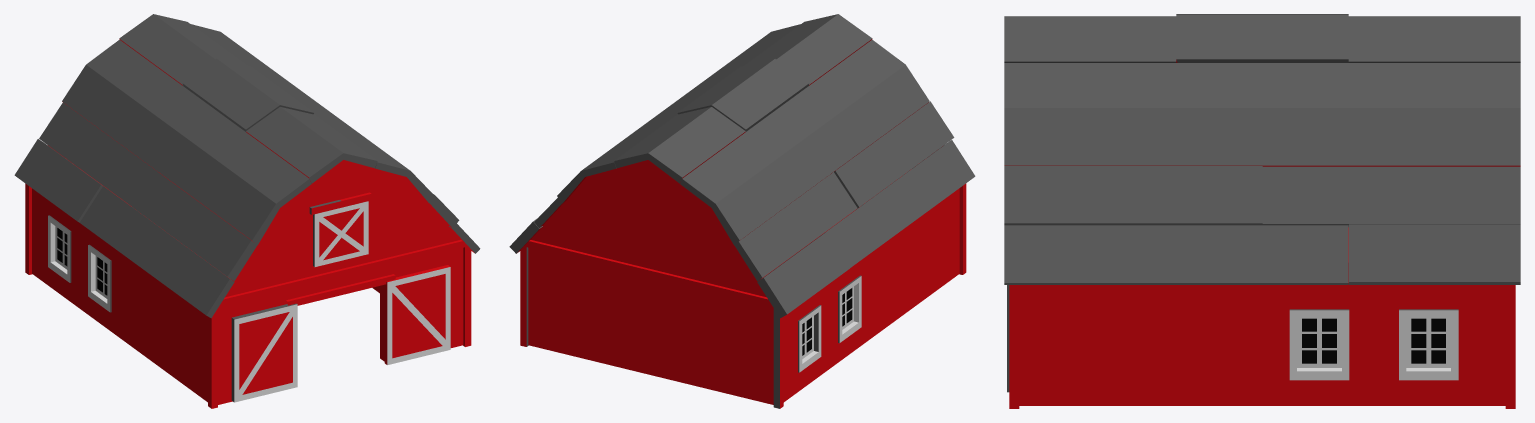
File: farm 1.fbx
3 views of the same model, side by side, from view 1: azimuth 30°, elevation 25°; view 2: azimuth 150°, elevation 25°; view 3: azimuth 270°, elevation 25° (orthographic). The views are drawn at different scales.
Parts seen in each view (by area): view 1: farm-house; view 2: farm-house; view 3: farm-house.
Part boxes in pixels (x1,y1,x2,y2): farm-house: (14, 14, 480, 408); farm-house: (509, 14, 975, 408); farm-house: (1004, 14, 1520, 408).
Size of the model in its own units: 877 by 685 by 1040.
